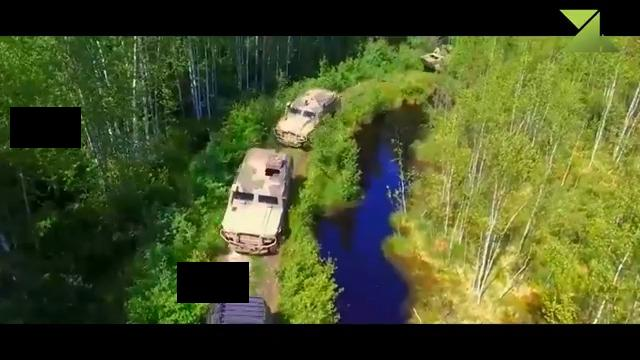MIL_HMMWV: (222, 146, 293, 256), (270, 85, 342, 153)
